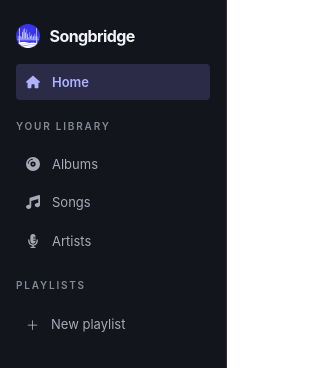
drags with pointer capture, persists the width, and stops resizing after release
Press the mouse on the element named "Sidebar width" at (226, 184), box left=222, top=0, right=230, bottom=368
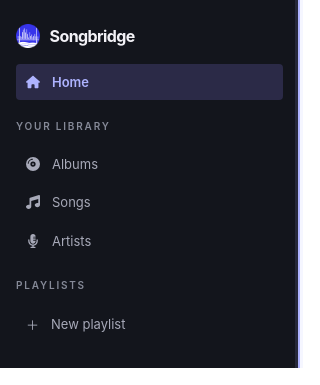
Check: the element named "Sidebar width" has attribute aria-valuenow="300", box left=295, top=0, right=303, bottom=368
